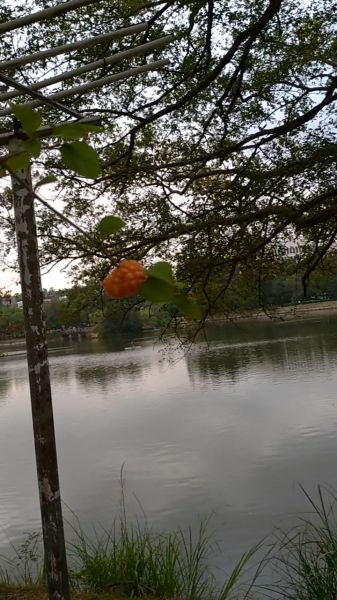eggs: (96, 254, 153, 305)
